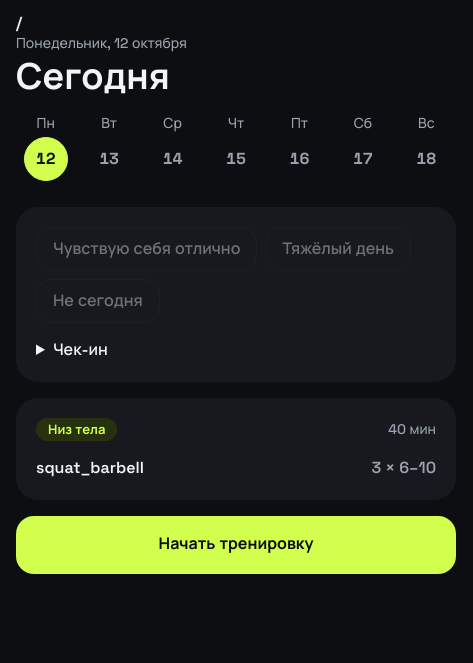
Test: «Начать» на экране «Сегодня» › прочая ошибка показывается и остаётся на экране
The width and height of the screenshot is (473, 663).
Click the button "Начать тренировку": (236, 544) [16, 516, 456, 574]
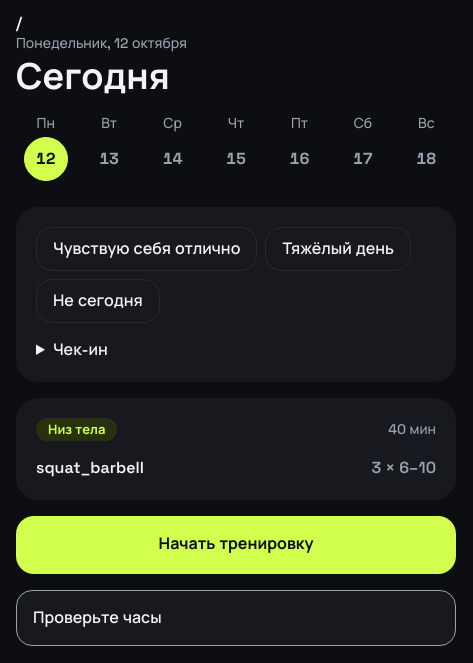
Check: the message reads "Проверьте часы", box [33, 606, 162, 628]
